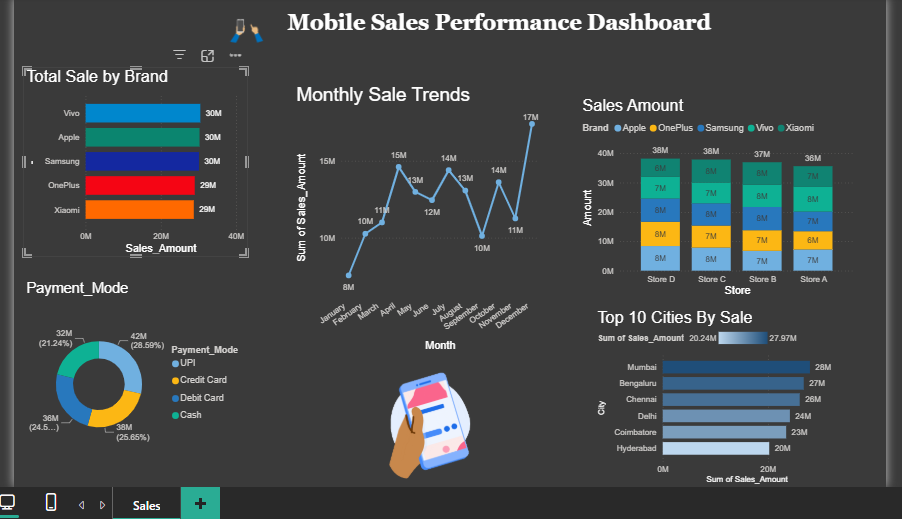

The dashboard page shown, as its layout file describes it:
{"tool":"powerbi","page":{"name":"Sales","canvas":[1280,720],"ordinal":0},"visuals":[{"type":"barChart","title":"Total Sale by Brand","fields":{"Category":["Mobile_Sales.Brand"],"Y":["Sum(Mobile_Sales.Sales_Amount)"]},"box":[13.4,103.1,330.1,279.3],"z":0},{"type":"donutChart","title":"Payment_Mode","fields":{"Category":["Mobile_Sales.Payment_Mode"],"Y":["Sum(Mobile_Sales.Sales_Amount)"]},"box":[13.4,415.3,330.1,282.3],"z":1000},{"type":"lineChart","title":"Monthly Sale Trends","fields":{"Category":["Mobile_Sales.Sale_Date.Variation.Date Hierarchy.Month"],"Y":["Sum(Mobile_Sales.Sales_Amount)"]},"box":[409.3,128.5,366,397.3],"z":2000},{"type":"columnChart","title":"Sales Amount","fields":{"Category":["Mobile_Sales.Store"],"Y":["Sum(Mobile_Sales.Sales_Amount)"],"Series":["Mobile_Sales.Brand"]},"box":[829.8,146.1,409.9,299],"z":3000},{"type":"clusteredBarChart","title":"Top 10 Cities By Sale","fields":{"Category":["Mobile_Sales.City"],"Y":["Sum(Mobile_Sales.Sales_Amount)"]},"box":[851.7,456.9,366.2,263.7],"z":4000},{"type":"image","box":[451.9,539.2,309.1,181.4],"z":5000},{"type":"textbox","box":[318.9,0,790.5,83.8],"z":6000},{"type":"image","box":[277.7,0,132.2,83.8],"z":7000}]}

Visuals, with their boxes on the page's 1280x720 design canvas (x1, y1, x2, y2). These are canvas units, not pixel positions in the 902x519 screenshot, which may show the page scaled, cropped or inside an application window:
"Total Sale by Brand" barChart: rect(13, 103, 344, 382)
"Payment_Mode" donutChart: rect(13, 415, 344, 698)
"Monthly Sale Trends" lineChart: rect(409, 128, 775, 526)
"Sales Amount" columnChart: rect(830, 146, 1240, 445)
"Top 10 Cities By Sale" clusteredBarChart: rect(852, 457, 1218, 721)
image: rect(452, 539, 761, 721)
textbox: rect(319, 0, 1109, 84)
image: rect(278, 0, 410, 84)
